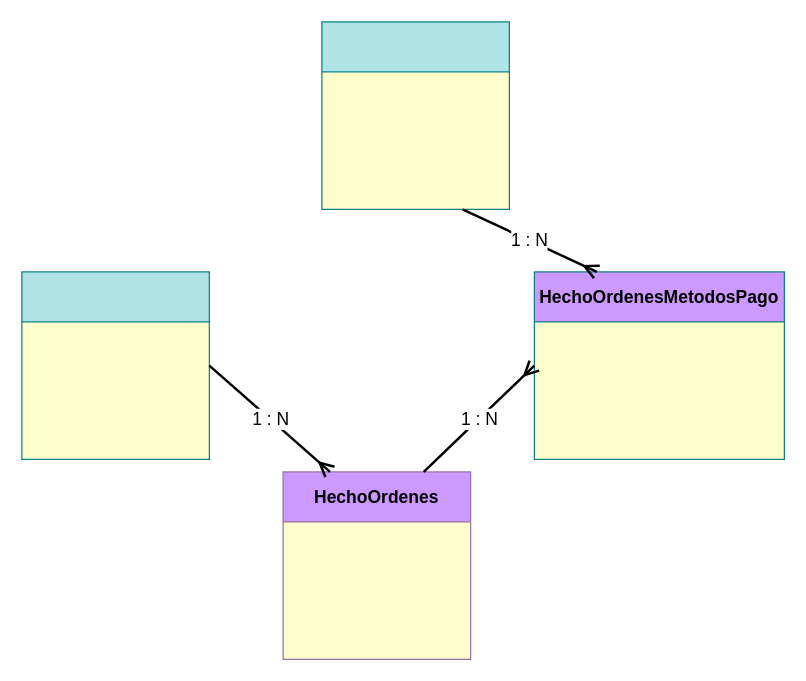
Image size: 806x681. Some labels were removed from this diagram. The shapes that lost their labels are listed below. From the top down, each one's centre as x and y in pixels, then its label:
At [415,115]: "Dim MetodosPago".
At [115,365]: "Dim Usuarios".
